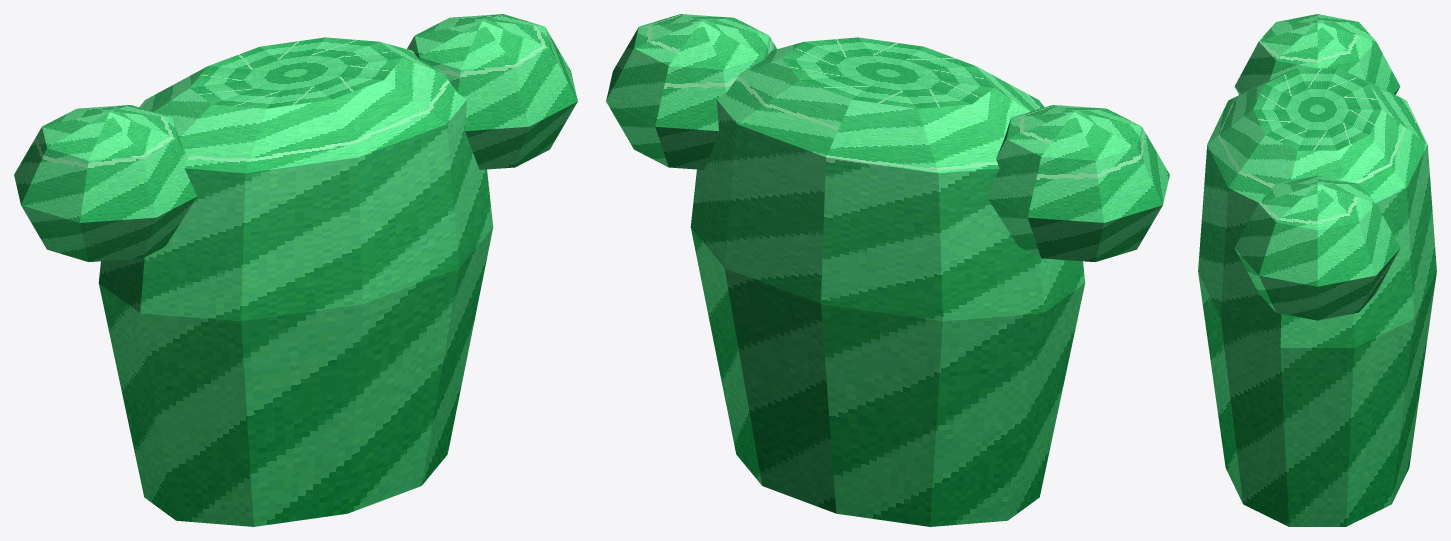
The model's file is peitoral_de_esmeralda.glb.
3 renders of one model, left to right at view 1: azimuth 30°, elevation 25°; view 2: azimuth 150°, elevation 25°; view 3: azimuth 270°, elevation 25°, orthographic. The views are drawn at different scales.
Parts seen in each view (by area): view 1: peitoral_de_esmeralda; view 2: peitoral_de_esmeralda; view 3: peitoral_de_esmeralda.
Part boxes in pixels (x1,y1,x2,y2): peitoral_de_esmeralda: (14, 14, 577, 526); peitoral_de_esmeralda: (606, 14, 1169, 526); peitoral_de_esmeralda: (1198, 14, 1436, 526).
Bounding box in the file's own units: 0.886 × 0.6305 × 0.3744.
Materials: 1 (1 with a texture image).
